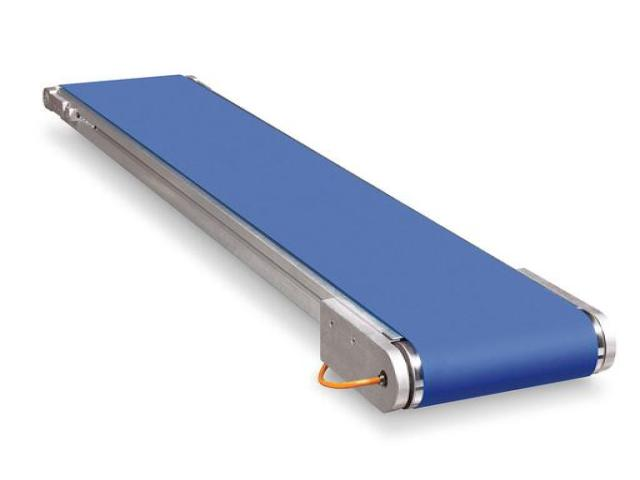conveyor: (38, 72, 618, 416)
